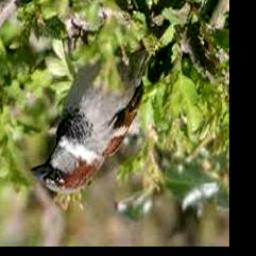Sparrow: (30, 46, 153, 194)
